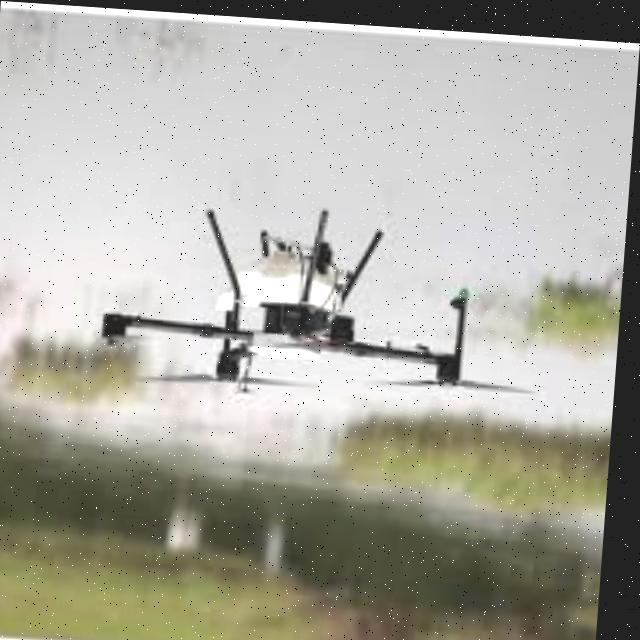drone: (75, 171, 553, 422)
